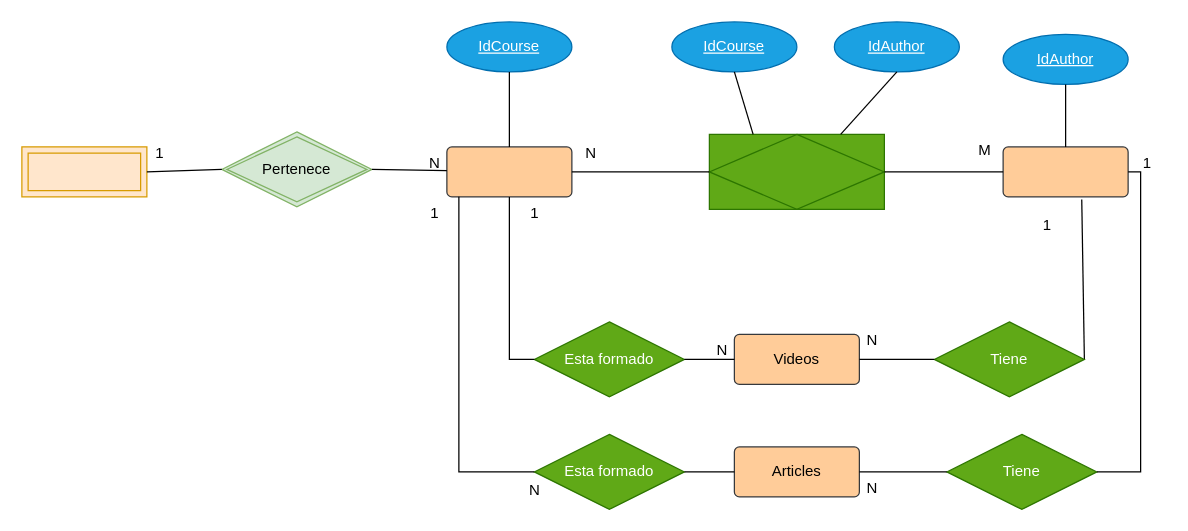
Some shapes in this 1188 by 531 pixel diagram are drawn without their labels. The shapes that lost their labels are listed below. From the top down, each one's centre as x and y in pixels, then its label:
At (84,171): "Categories".
At (509,171): "Courses".
At (796,171): "creado".
At (1065,171): "Authors".
